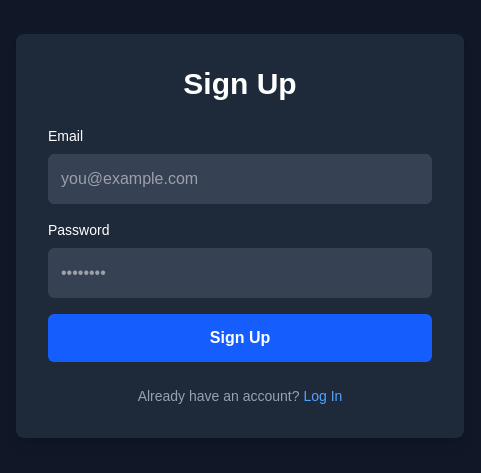
Test case: SignUpPage › shows an error message if signup fails
Type "test@example.com" into the field labelled "Email".
click(240, 179); type("test@example.com")  # box [48,154,432,204]
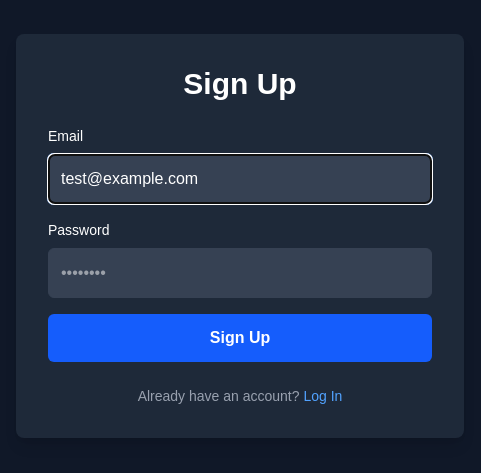
Type "password123" into the password field labelled "Password".
click(240, 273); type("password123")  # box [48,248,432,298]
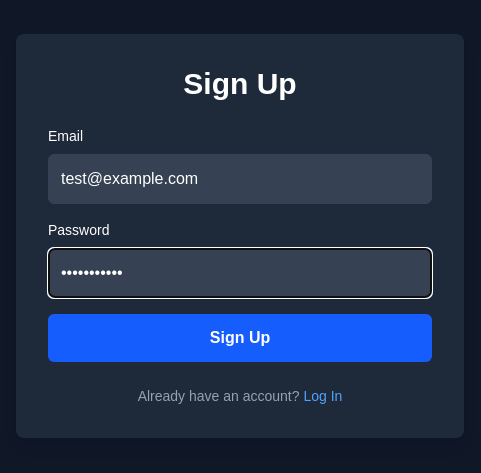
Click the button "Sign Up".
click(240, 338)  # box [48,314,432,362]
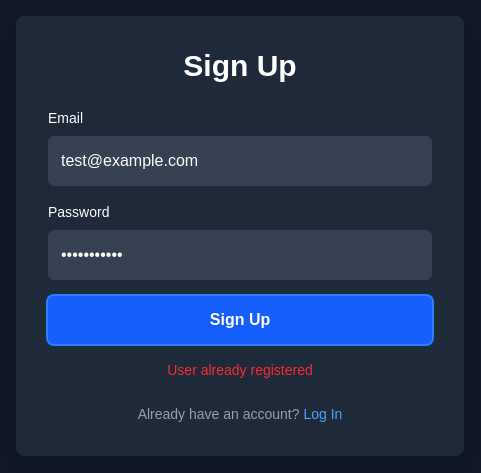
Now the text "User already registered" is shown, box [167,362,313,378]
